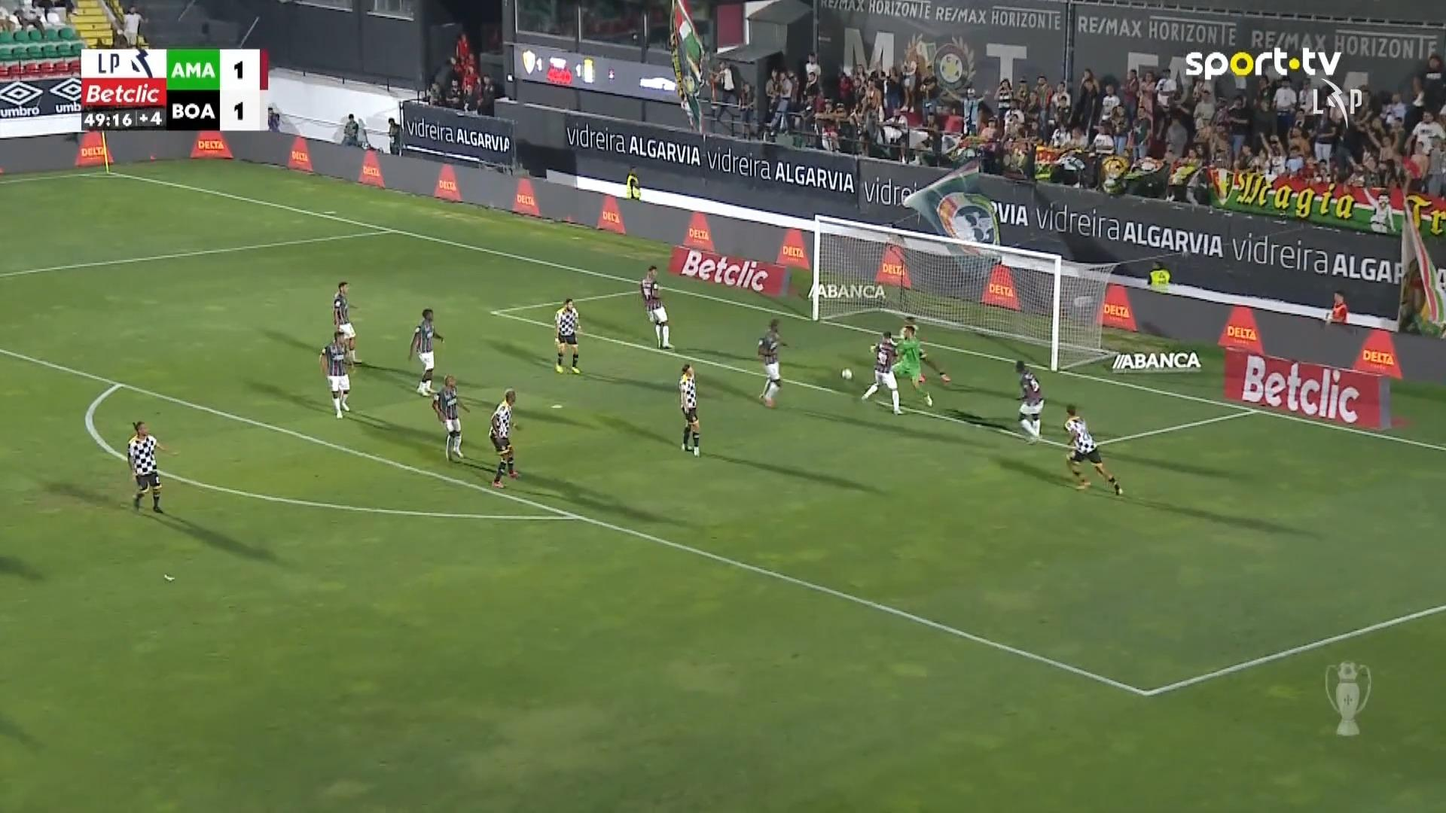ball: (840, 368, 852, 380)
goalkeeper: (889, 324, 950, 409)
player: (1062, 403, 1122, 495), (125, 419, 178, 513), (860, 330, 904, 415), (407, 307, 444, 397), (487, 388, 520, 488), (432, 373, 469, 461), (319, 329, 354, 419), (639, 264, 673, 349), (756, 318, 788, 407), (1014, 359, 1045, 444), (331, 280, 359, 365), (677, 363, 702, 457), (553, 297, 581, 374)
